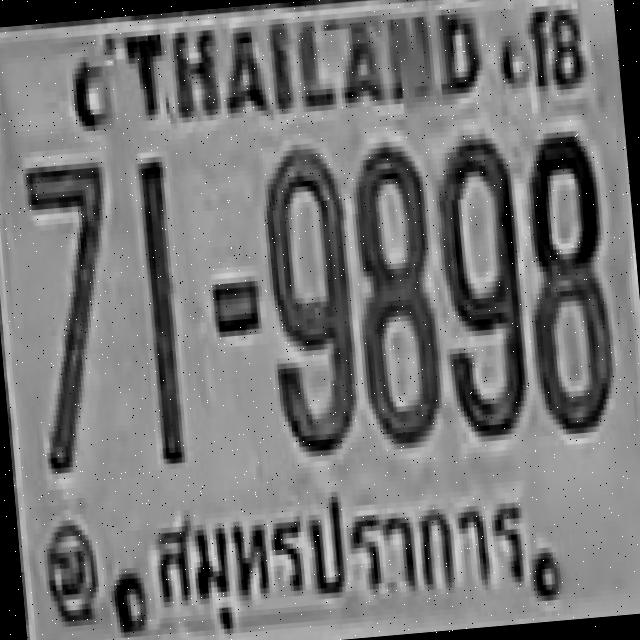1: (132, 158, 186, 462)
7: (20, 154, 126, 472)
8: (515, 124, 617, 436), (343, 139, 445, 446)
9: (255, 140, 360, 454), (430, 132, 532, 438)
SamutPrakan: (137, 460, 538, 640)
